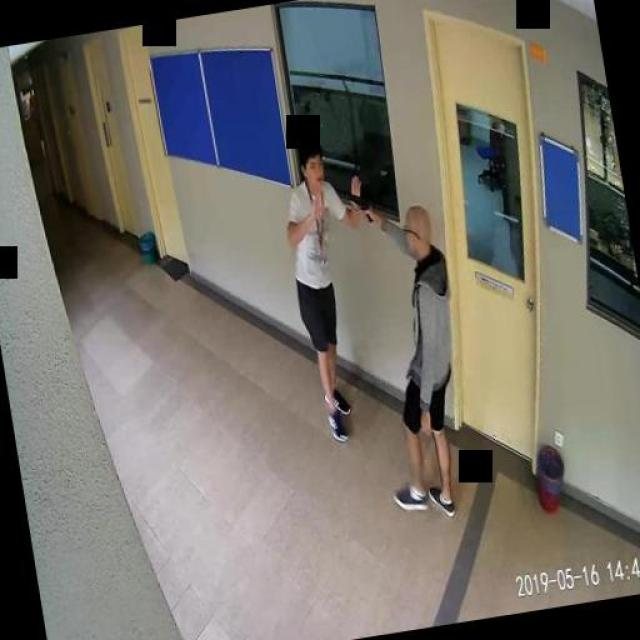gun: (346, 188, 372, 224)
